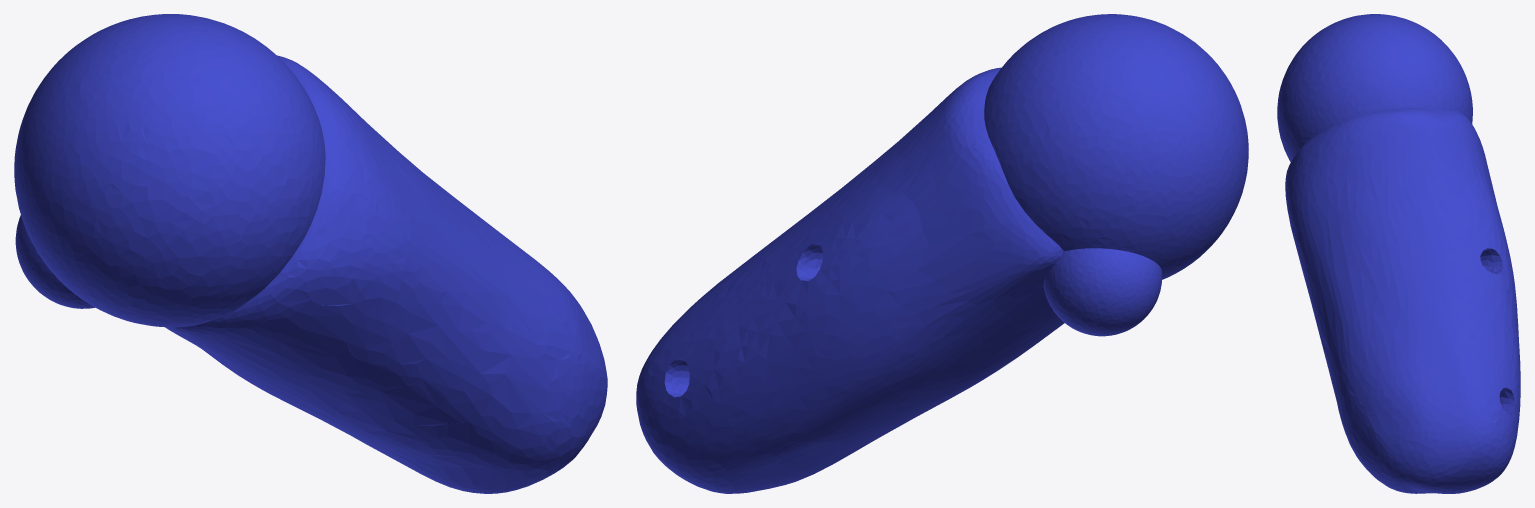
Rendered from body_right.glb.
3 renders of one model, left to right at view 1: azimuth 30°, elevation 25°; view 2: azimuth 150°, elevation 25°; view 3: azimuth 270°, elevation 25°, orthographic. The views are drawn at different scales.
Bounding box in the file's own units: 252 × 229 × 141.
